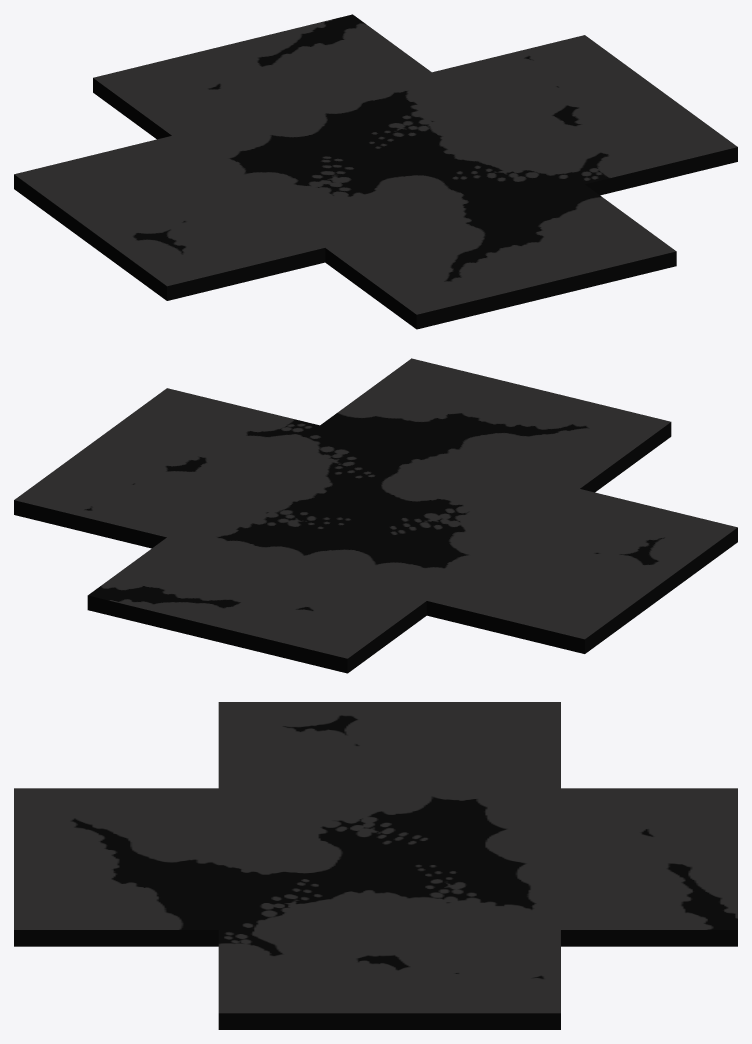
The model's file is intersection.glb.
3 renders of one model, top to bottom at view 1: azimuth 30°, elevation 25°; view 2: azimuth 150°, elevation 25°; view 3: azimuth 270°, elevation 25°, orthographic. The views are drawn at different scales.
Parts seen in each view (by area): view 1: intersection; view 2: intersection; view 3: intersection.
Part boxes in pixels (<box>): intersection: <box>14,14,737,329</box>; intersection: <box>14,358,737,673</box>; intersection: <box>14,702,737,1029</box>.
Size of the model in its own units: 15.36 by 0.3794 by 15.09.
1 material, 1 textured.
